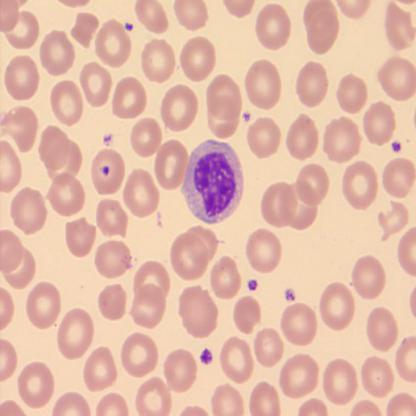Metamyelocyte: (178, 135, 245, 225)
